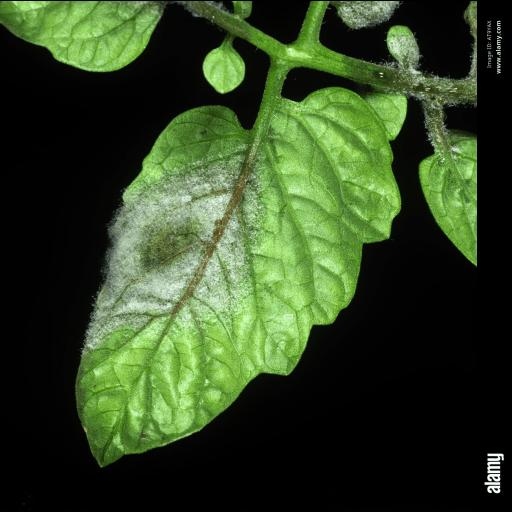disease_tomato: (73, 86, 405, 466)
